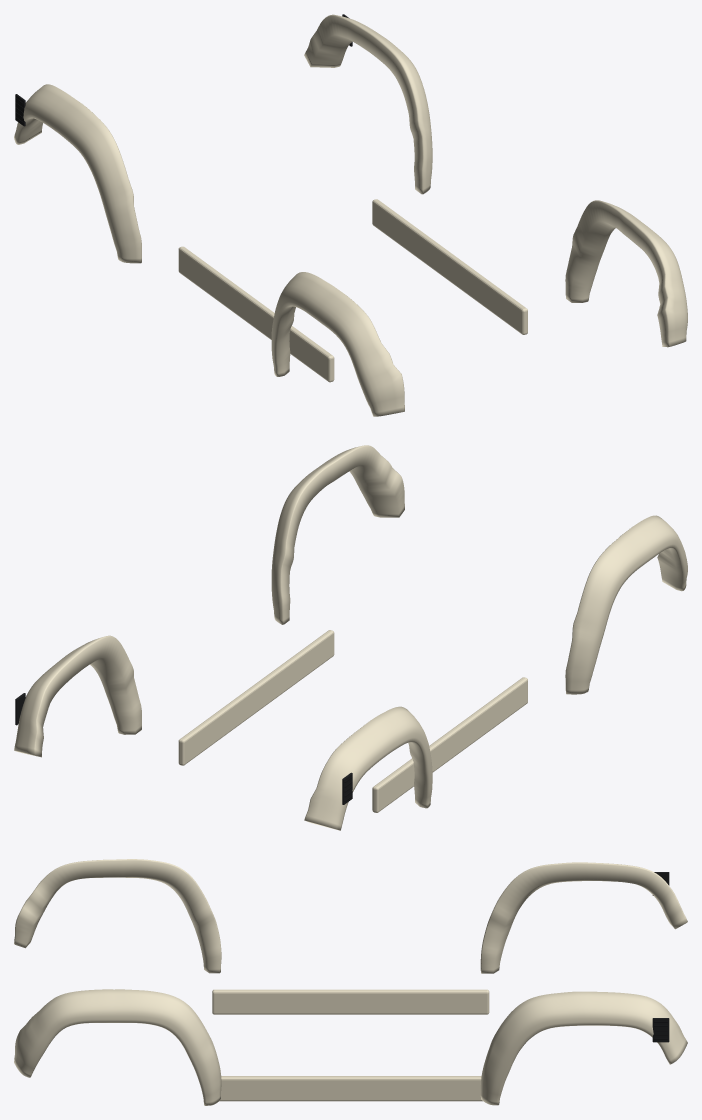
The model's file is fender_damd_saudade.glb.
The picture shows the model from 3 angles, top to bottom: view 1: azimuth 30°, elevation 25°; view 2: azimuth 150°, elevation 25°; view 3: azimuth 270°, elevation 25°; orthographic projection. The views are drawn at different scales.
Parts seen in each view (by area): view 1: front-1.010, rear-1.010, front1.010, rear1.010, sill1, sill-1; view 2: front-1.010, rear-1.010, front1.010, rear1.010, sill1, sill-1; view 3: front1.010, rear1.010, sill-1, sill1, front-1.010, rear-1.010, duct1.001.
Part boxes in pixels (x1,y1,x2,y2): front-1.010: [271, 272, 404, 416]; rear-1.010: [14, 84, 141, 263]; front1.010: [565, 200, 687, 347]; rear1.010: [304, 14, 432, 194]; sill1: [372, 199, 527, 334]; sill-1: [178, 246, 334, 382]; front-1.010: [565, 515, 687, 694]; rear-1.010: [304, 706, 432, 830]; front1.010: [271, 445, 404, 624]; rear1.010: [14, 635, 141, 757]; sill1: [178, 630, 334, 765]; sill-1: [372, 677, 527, 812]; front1.010: [14, 989, 221, 1105]; rear1.010: [480, 991, 687, 1105]; sill-1: [212, 989, 489, 1014]; sill1: [219, 1076, 482, 1101]; front-1.010: [14, 859, 221, 973]; rear-1.010: [480, 862, 687, 973]; duct1.001: [652, 1018, 669, 1042].
Size of the model in its own units: 1.61 by 0.6699 by 3.08.
